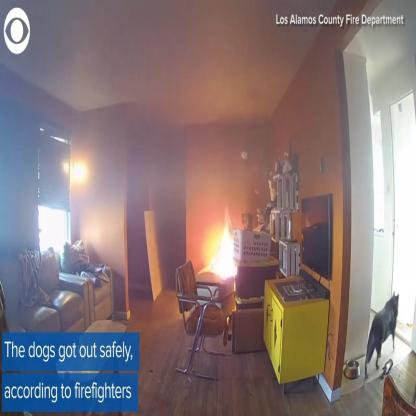fire: (204, 208, 236, 280)
